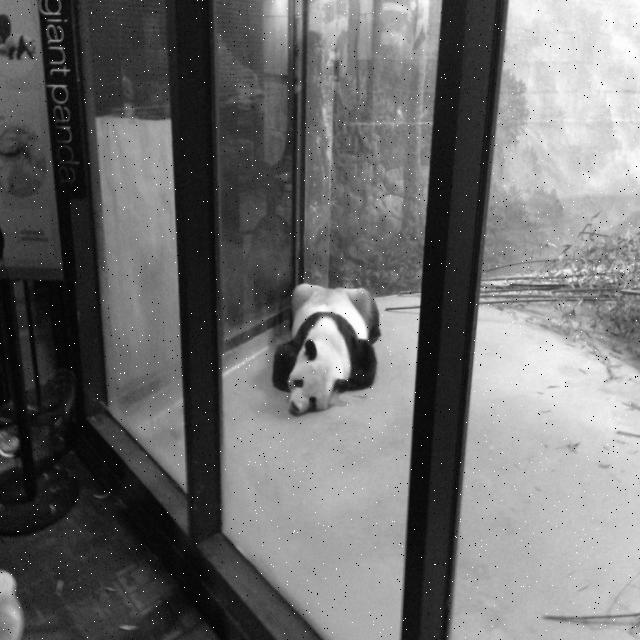panda: (272, 284, 380, 415)
